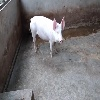heo: (28, 13, 66, 59)
